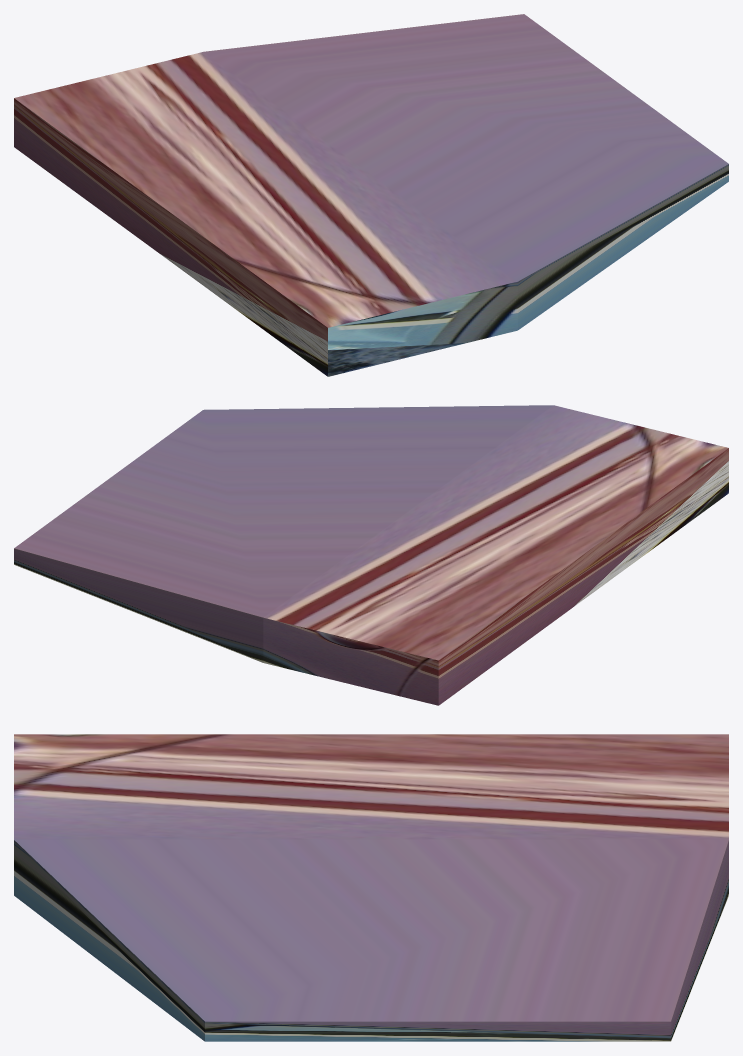
The picture shows the model from 3 angles, top to bottom: view 1: azimuth 30°, elevation 25°; view 2: azimuth 150°, elevation 25°; view 3: azimuth 270°, elevation 25°; orthographic projection. The views are drawn at different scales.
Visible parts, largest first — view 1: Wing-1_Cube.007; view 2: Wing-1_Cube.007; view 3: Wing-1_Cube.007.
Boxes of the visible parts, x1,y1,x2,y2 form: Wing-1_Cube.007: [14, 14, 728, 376]; Wing-1_Cube.007: [14, 405, 728, 705]; Wing-1_Cube.007: [14, 734, 728, 1041].
Size of the model in its own units: 5.71 by 0.5514 by 6.4.
